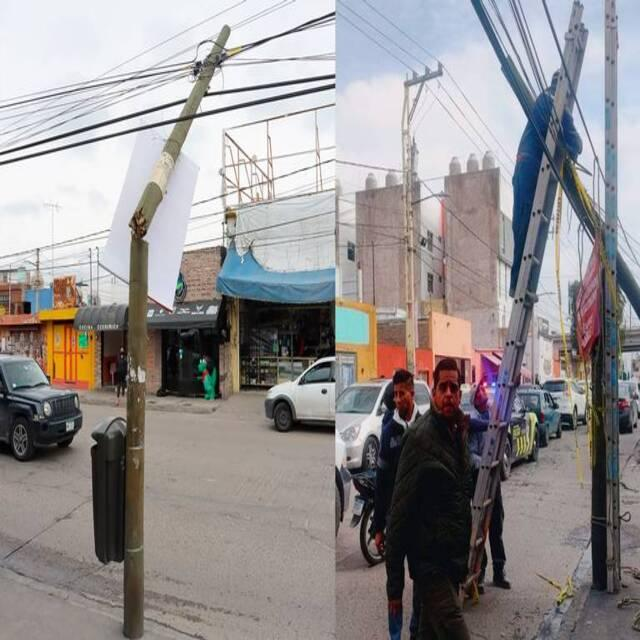Inclined Pole: (88, 22, 237, 637)
